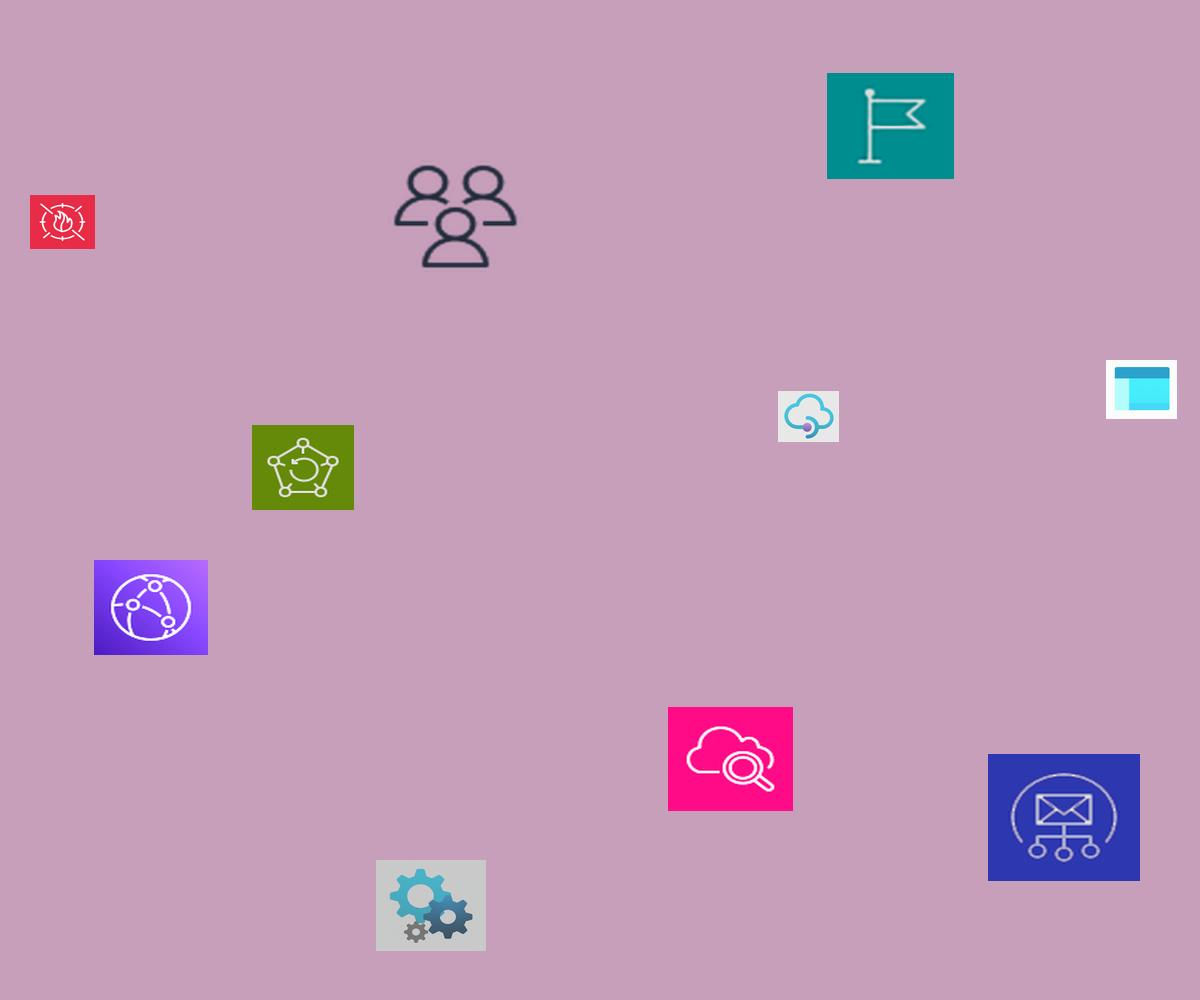AWS-Backup: (252, 425, 354, 510)
AWS-CloudFront: (94, 560, 208, 655)
AWS-CloudWatch: (668, 707, 793, 811)
AWS-Region: (827, 73, 954, 179)
AWS-Res_Users: (389, 161, 522, 272)
AWS-Simple-Email-Service: (988, 754, 1140, 881)
AWS-WAF: (30, 195, 95, 249)
Azure_api: (376, 860, 486, 951)
Azure_api_gateway: (778, 391, 839, 442)
Azure_management-portal: (1106, 360, 1177, 419)
